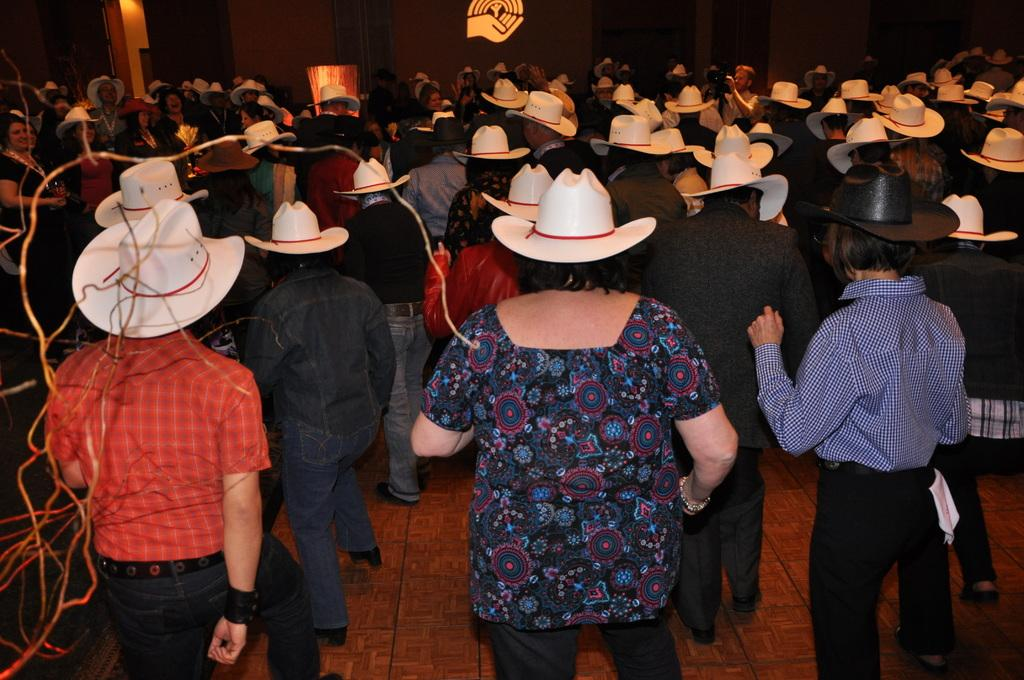Sem Máscara: (5, 118, 26, 147), (424, 88, 441, 107)
